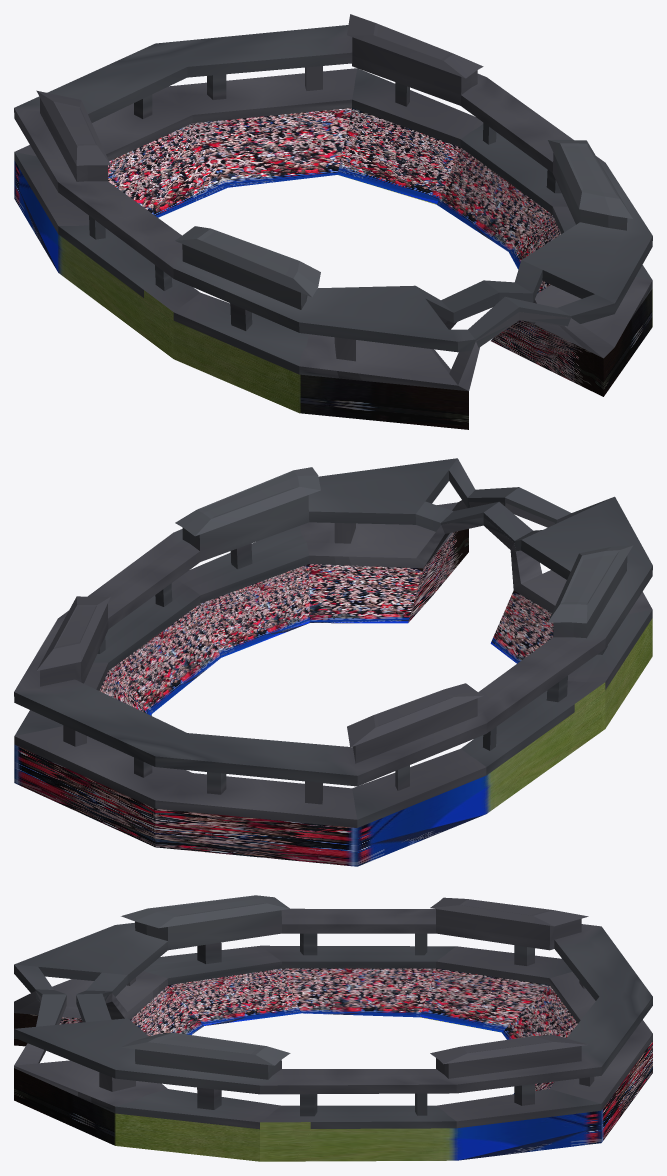
The model's file is Stadium.fbx.
3 renders of one model, top to bottom at view 1: azimuth 30°, elevation 25°; view 2: azimuth 150°, elevation 25°; view 3: azimuth 270°, elevation 25°, orthographic. The views are drawn at different scales.
Visible parts, largest first — view 1: Cube.001; view 2: Cube.001; view 3: Cube.001.
Boxes of the visible parts, x1,y1,x2,y2 form: Cube.001: [14, 14, 652, 429]; Cube.001: [14, 458, 652, 866]; Cube.001: [14, 895, 652, 1161].
Bounding box in the file's own units: 5287 × 1406 × 8074.
